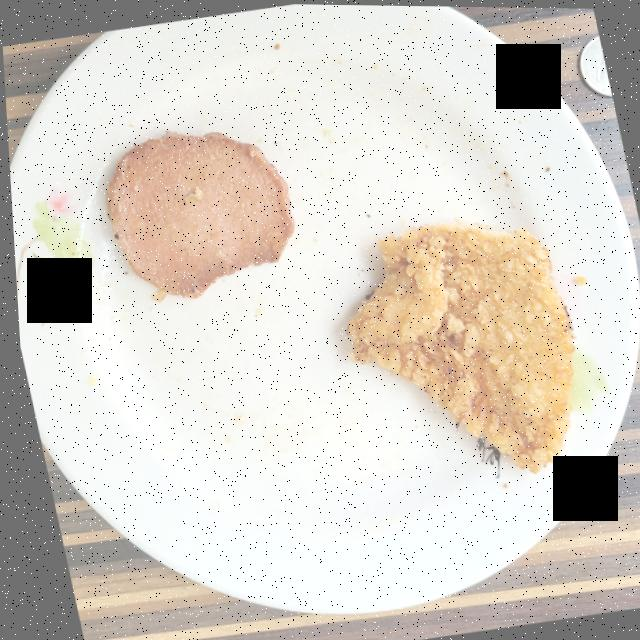Spam: (105, 131, 292, 298)
coin: (579, 34, 611, 94)
fried chicken cutlet: (344, 221, 571, 471)
